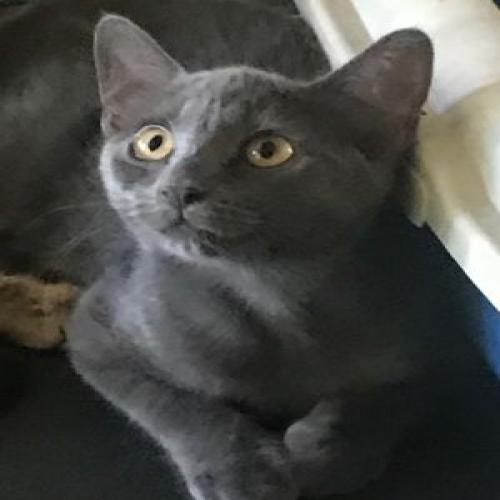rblue: (84, 4, 437, 266)
